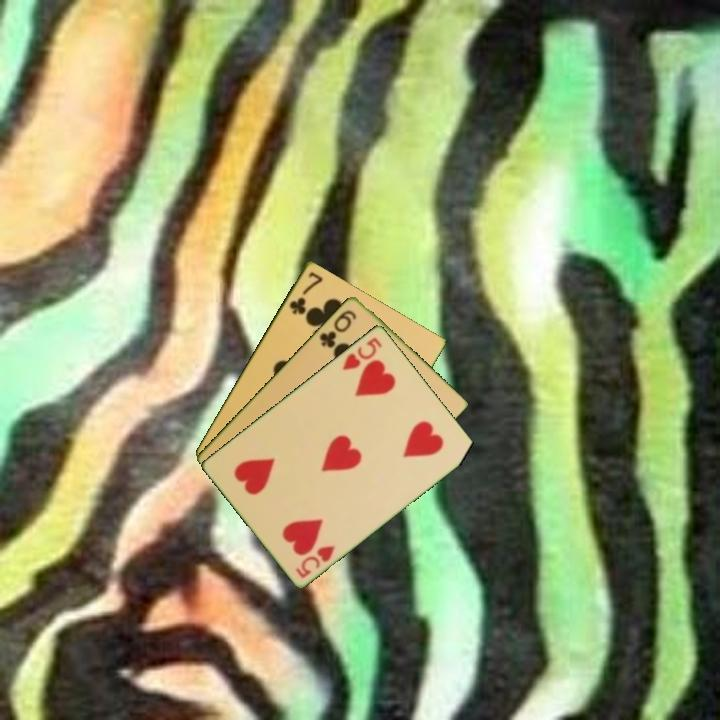5h: (339, 333, 385, 373), (292, 541, 338, 581)
6c: (316, 306, 359, 351)
7c: (285, 268, 326, 317)
